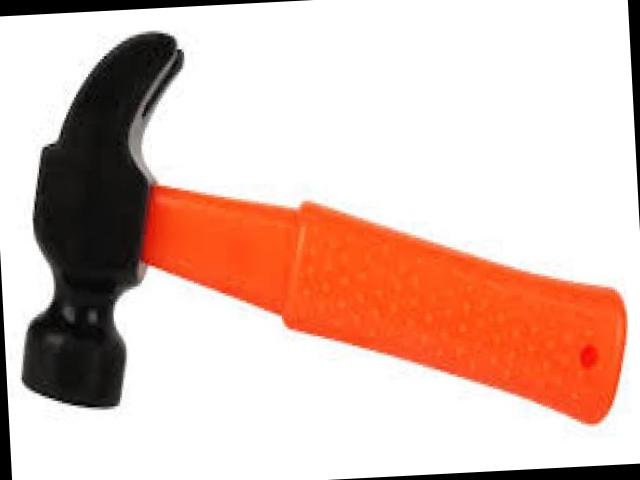hammer: (2, 8, 636, 461)
